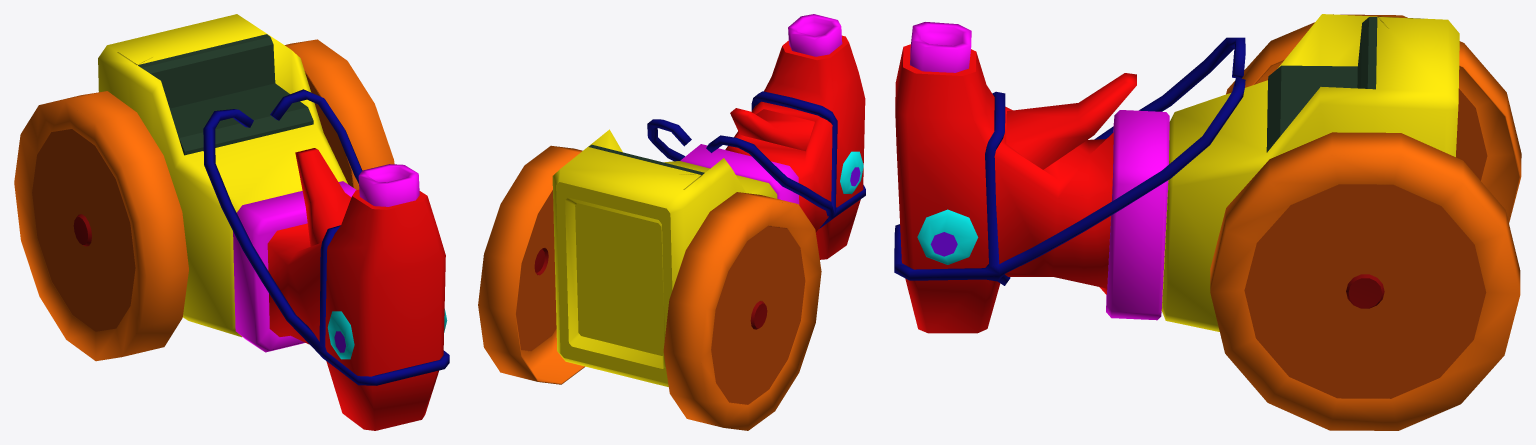
The model's file is Horsekart.fbx.
3 renders of one model, left to right at view 1: azimuth 30°, elevation 25°; view 2: azimuth 150°, elevation 25°; view 3: azimuth 270°, elevation 25°, orthographic. The views are drawn at different scales.
Visible parts, largest first — view 1: ban, Kepala, Box, seat, leash, mata; view 2: ban, Box, Kepala, leash, mata, seat; view 3: ban, Kepala, Box, leash, seat, mata.
Boxes of the visible parts, bbox=[...] form: ban: bbox=[14, 39, 394, 361]; Kepala: bbox=[233, 148, 445, 430]; Box: bbox=[98, 14, 347, 337]; seat: bbox=[138, 34, 313, 155]; leash: bbox=[203, 89, 449, 385]; mata: bbox=[327, 309, 447, 359]; ban: bbox=[478, 145, 821, 430]; Box: bbox=[552, 129, 777, 387]; Kepala: bbox=[680, 14, 865, 259]; leash: bbox=[647, 91, 865, 228]; mata: bbox=[840, 151, 863, 194]; seat: bbox=[588, 144, 704, 174]; ban: bbox=[1210, 14, 1521, 430]; Kepala: bbox=[895, 22, 1169, 333]; Box: bbox=[1161, 14, 1459, 331]; leash: bbox=[894, 37, 1245, 285]; seat: bbox=[1266, 17, 1377, 152]; mata: bbox=[917, 209, 978, 264].
Size of the model in its own units: 174 by 185 by 323.
1 material, 1 textured.
